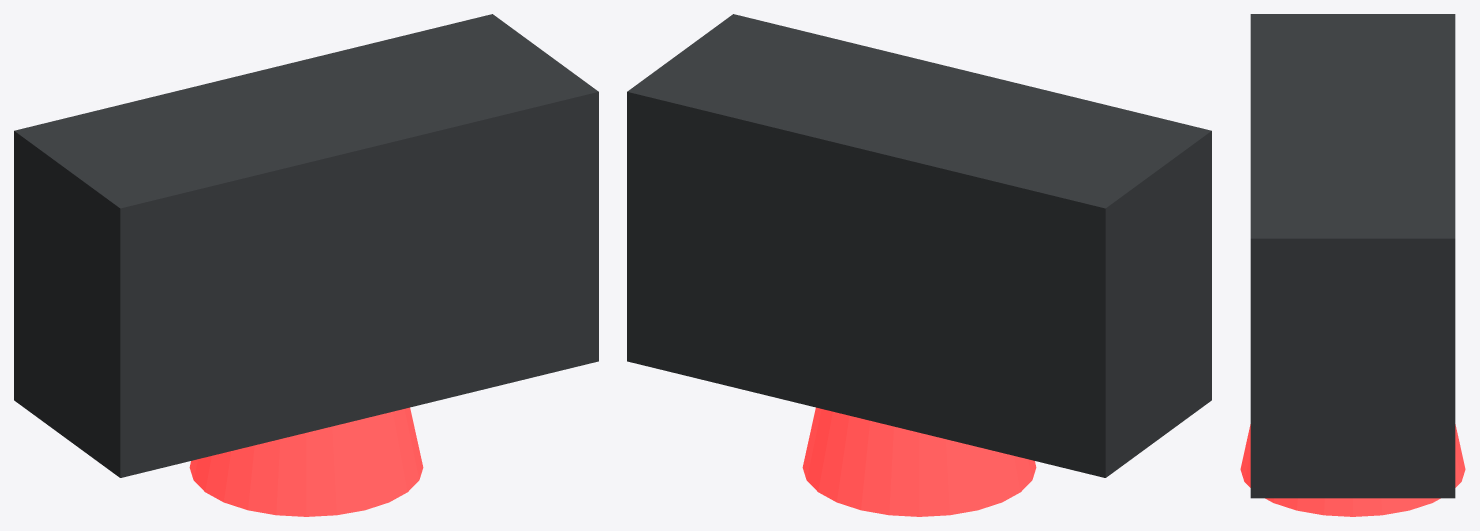
File: red_lamp.glb
3 renders of one model, left to right at view 1: azimuth 30°, elevation 25°; view 2: azimuth 150°, elevation 25°; view 3: azimuth 270°, elevation 25°, orthographic. The views are drawn at different scales.
Visible parts, largest first — view 1: red_lamp; view 2: red_lamp; view 3: red_lamp.
Part boxes in pixels (box(x1,y1,x2,y2)): red_lamp: box(14, 14, 598, 516); red_lamp: box(627, 14, 1211, 516); red_lamp: box(1240, 14, 1465, 516).
Bounding box in the file's own units: 0.26 × 0.185 × 0.11.
